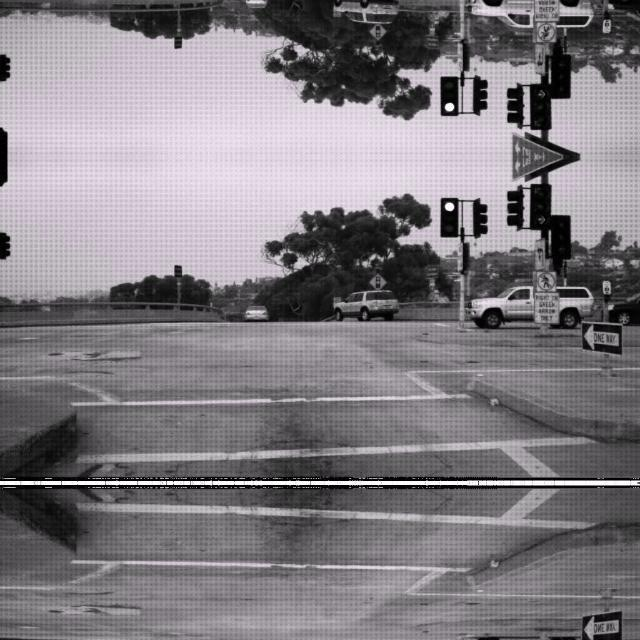signalAhead: (368, 271, 386, 289), (368, 23, 386, 41)
